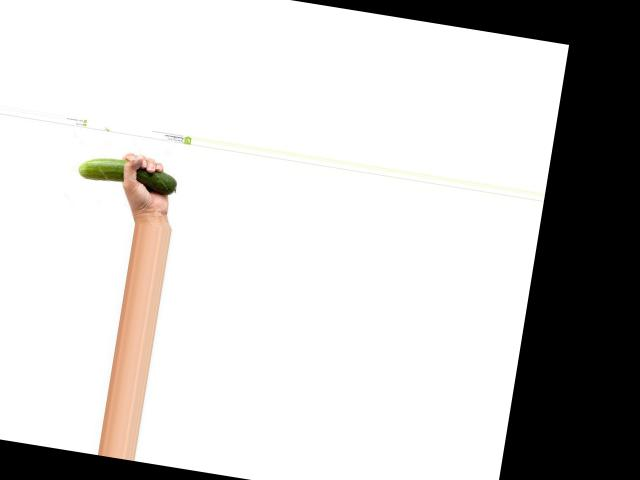cucumber: (76, 152, 178, 195)
